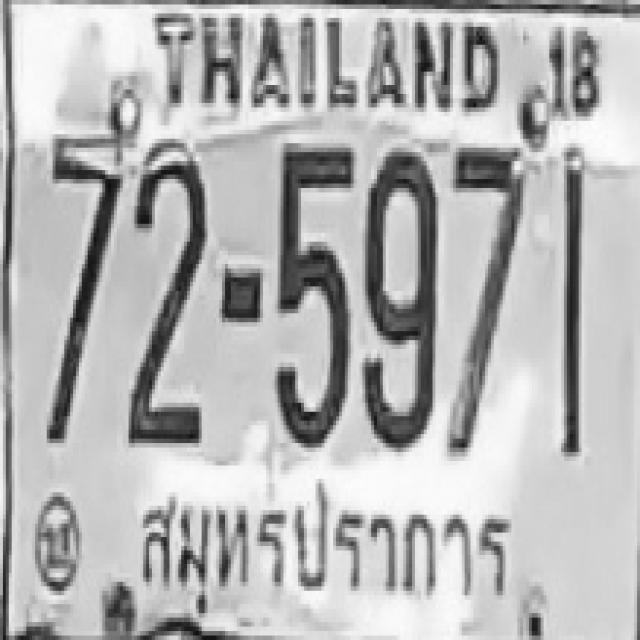1: (560, 152, 583, 457), (560, 157, 583, 443)
2: (127, 146, 206, 446)
5: (273, 141, 352, 450)
7: (446, 143, 524, 457), (46, 134, 121, 443)
9: (361, 148, 437, 452)
SamutPrakan: (124, 477, 515, 617)
